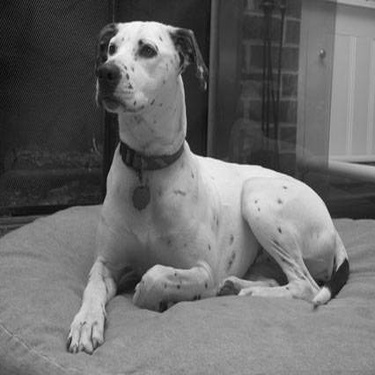dog: (59, 3, 358, 362)
